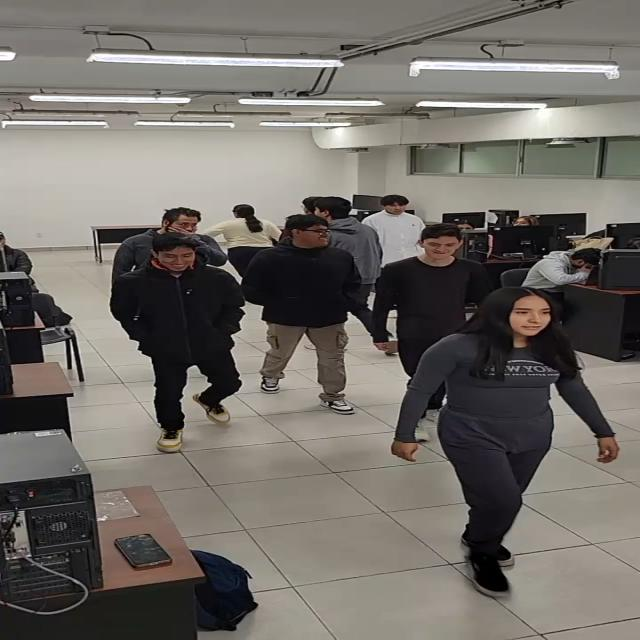Persona: (396, 285, 602, 600), (104, 229, 246, 453), (248, 216, 364, 416), (383, 222, 468, 404)
